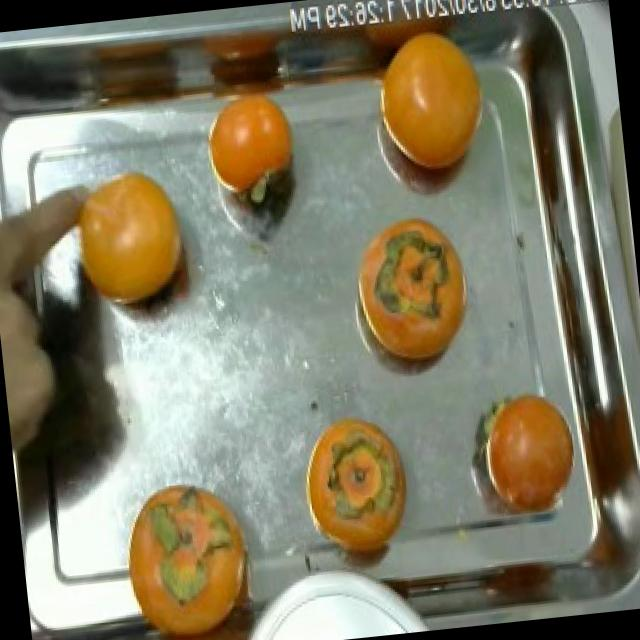Fruit: (103, 459, 276, 640), (54, 150, 208, 338), (286, 398, 426, 578), (345, 202, 482, 380), (360, 18, 502, 189), (462, 376, 584, 531), (190, 83, 310, 223), (0, 283, 81, 467)
